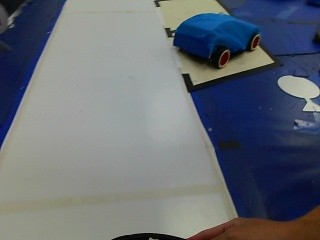car: (166, 13, 265, 69)
